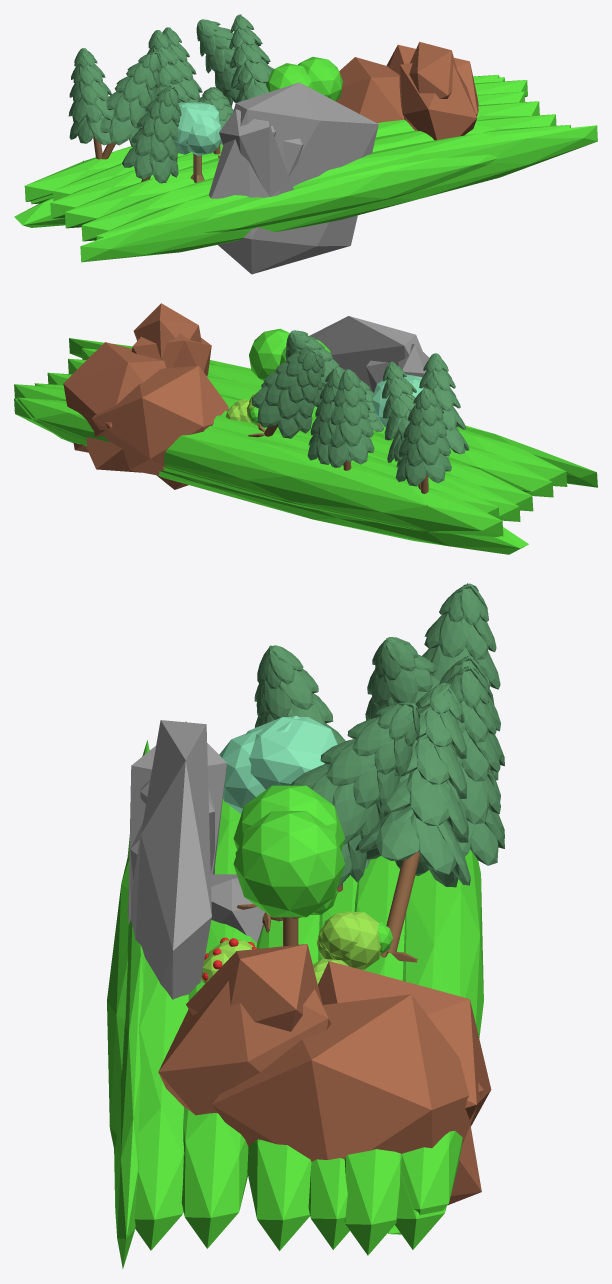
File: forest_assetfinal.fbx
The picture shows the model from 3 angles, top to bottom: view 1: azimuth 30°, elevation 25°; view 2: azimuth 150°, elevation 25°; view 3: azimuth 270°, elevation 25°; orthographic projection. The views are drawn at different scales.
Parts seen in each view (by area): view 1: Icosphere.035, Icosphere.025, Icosphere.024, Icosphere.007, Icosphere.022, Icosphere.023, Cylinder.004, Cylinder.005, Icosphere.036, Cylinder.009, Icosphere.032, Cylinder.006 (+14 smaller); view 2: Icosphere.028, Icosphere.036, Icosphere.030, Cylinder.002, Icosphere.029, Cylinder.009, Icosphere.035, Icosphere.007, Icosphere.023, Cylinder.008, Icosphere.026, Icosphere.024 (+14 smaller); view 3: Icosphere.030, Icosphere.035, Icosphere.007, Cylinder.002, Icosphere.024, Icosphere.028, Cylinder.006, Icosphere.037, Icosphere.023, Icosphere.026, Icosphere.036, Icosphere.022 (+14 smaller).
Boxes of the visible parts, x1=… form: Icosphere.035: x1=208, y1=82, x2=378, y2=274; Icosphere.025: x1=80, y1=125, x2=597, y2=262; Icosphere.024: x1=96, y1=124, x2=570, y2=239; Icosphere.007: x1=399, y1=41, x2=476, y2=140; Icosphere.022: x1=65, y1=101, x2=539, y2=228; Icosphere.023: x1=81, y1=114, x2=556, y2=241; Cylinder.004: x1=122, y1=85, x2=181, y2=183; Cylinder.005: x1=83, y1=51, x2=161, y2=161; Icosphere.036: x1=336, y1=57, x2=403, y2=122; Cylinder.009: x1=68, y1=48, x2=113, y2=159; Icosphere.032: x1=219, y1=109, x2=293, y2=196; Cylinder.006: x1=229, y1=14, x2=272, y2=102; Icosphere.028: x1=18, y1=397, x2=503, y2=536; Icosphere.036: x1=91, y1=365, x2=228, y2=489; Icosphere.030: x1=63, y1=342, x2=166, y2=472; Cylinder.002: x1=248, y1=348, x2=324, y2=438; Icosphere.029: x1=54, y1=434, x2=528, y2=554; Cylinder.009: x1=396, y1=388, x2=451, y2=493; Icosphere.035: x1=309, y1=316, x2=422, y2=390; Icosphere.007: x1=131, y1=303, x2=211, y2=375; Icosphere.023: x1=68, y1=358, x2=553, y2=497; Cylinder.008: x1=318, y1=369, x2=374, y2=470; Icosphere.026: x1=14, y1=384, x2=499, y2=518; Icosphere.024: x1=81, y1=348, x2=567, y2=486; Icosphere.030: x1=211, y1=994, x2=483, y2=1204; Icosphere.035: x1=127, y1=720, x2=211, y2=999; Icosphere.007: x1=158, y1=944, x2=330, y2=1115; Cylinder.002: x1=355, y1=682, x2=470, y2=962; Icosphere.024: x1=107, y1=855, x2=188, y2=1250; Icosphere.028: x1=400, y1=849, x2=483, y2=1214; Cylinder.006: x1=237, y1=702, x2=419, y2=932; Icosphere.037: x1=233, y1=811, x2=344, y2=917; Icosphere.023: x1=181, y1=799, x2=256, y2=1248; Icosphere.026: x1=344, y1=856, x2=404, y2=1255; Icosphere.036: x1=318, y1=961, x2=491, y2=1126; Icosphere.022: x1=247, y1=915, x2=319, y2=1250.
Bounding box in the file's own units: 4888 × 1825 × 1647.
